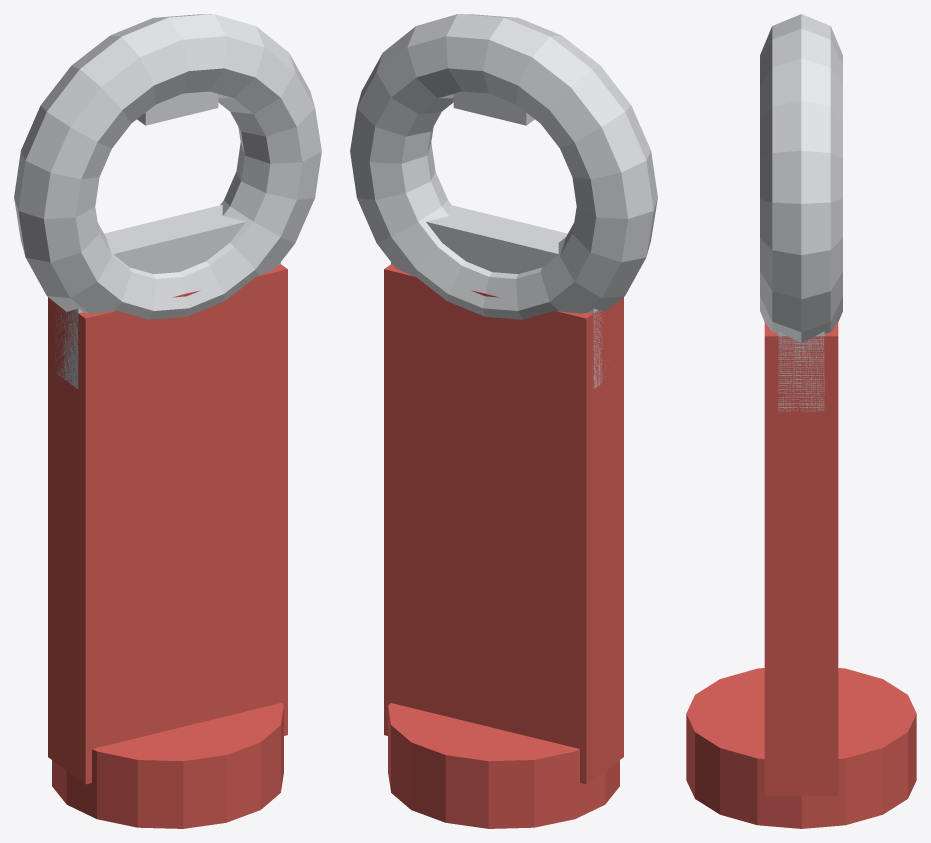
File: decapsuleur.glb
The picture shows the model from 3 angles, left to right: view 1: azimuth 30°, elevation 25°; view 2: azimuth 150°, elevation 25°; view 3: azimuth 270°, elevation 25°; orthographic projection.
Visible parts, largest first — view 1: Cube, Torus, Cylinder, Cube.001, Cube.002; view 2: Cube, Torus, Cylinder, Cube.001, Cube.002; view 3: Cube, Torus, Cylinder, Cube.001.
Boxes of the visible parts, x1,y1,x2,y2 form: Cube: [48, 264, 287, 784]; Torus: [14, 14, 321, 319]; Cylinder: [52, 703, 283, 828]; Cube.001: [55, 204, 280, 388]; Cube.002: [137, 91, 218, 125]; Cube: [384, 264, 623, 784]; Torus: [350, 14, 657, 319]; Cylinder: [388, 703, 619, 828]; Cube.001: [391, 204, 605, 388]; Cube.002: [453, 91, 534, 125]; Cube: [764, 321, 838, 795]; Torus: [760, 14, 842, 342]; Cylinder: [686, 668, 916, 828]; Cube.001: [778, 331, 824, 411].
Size of the model in its own units: 0.074 by 0.18 by 0.05.
